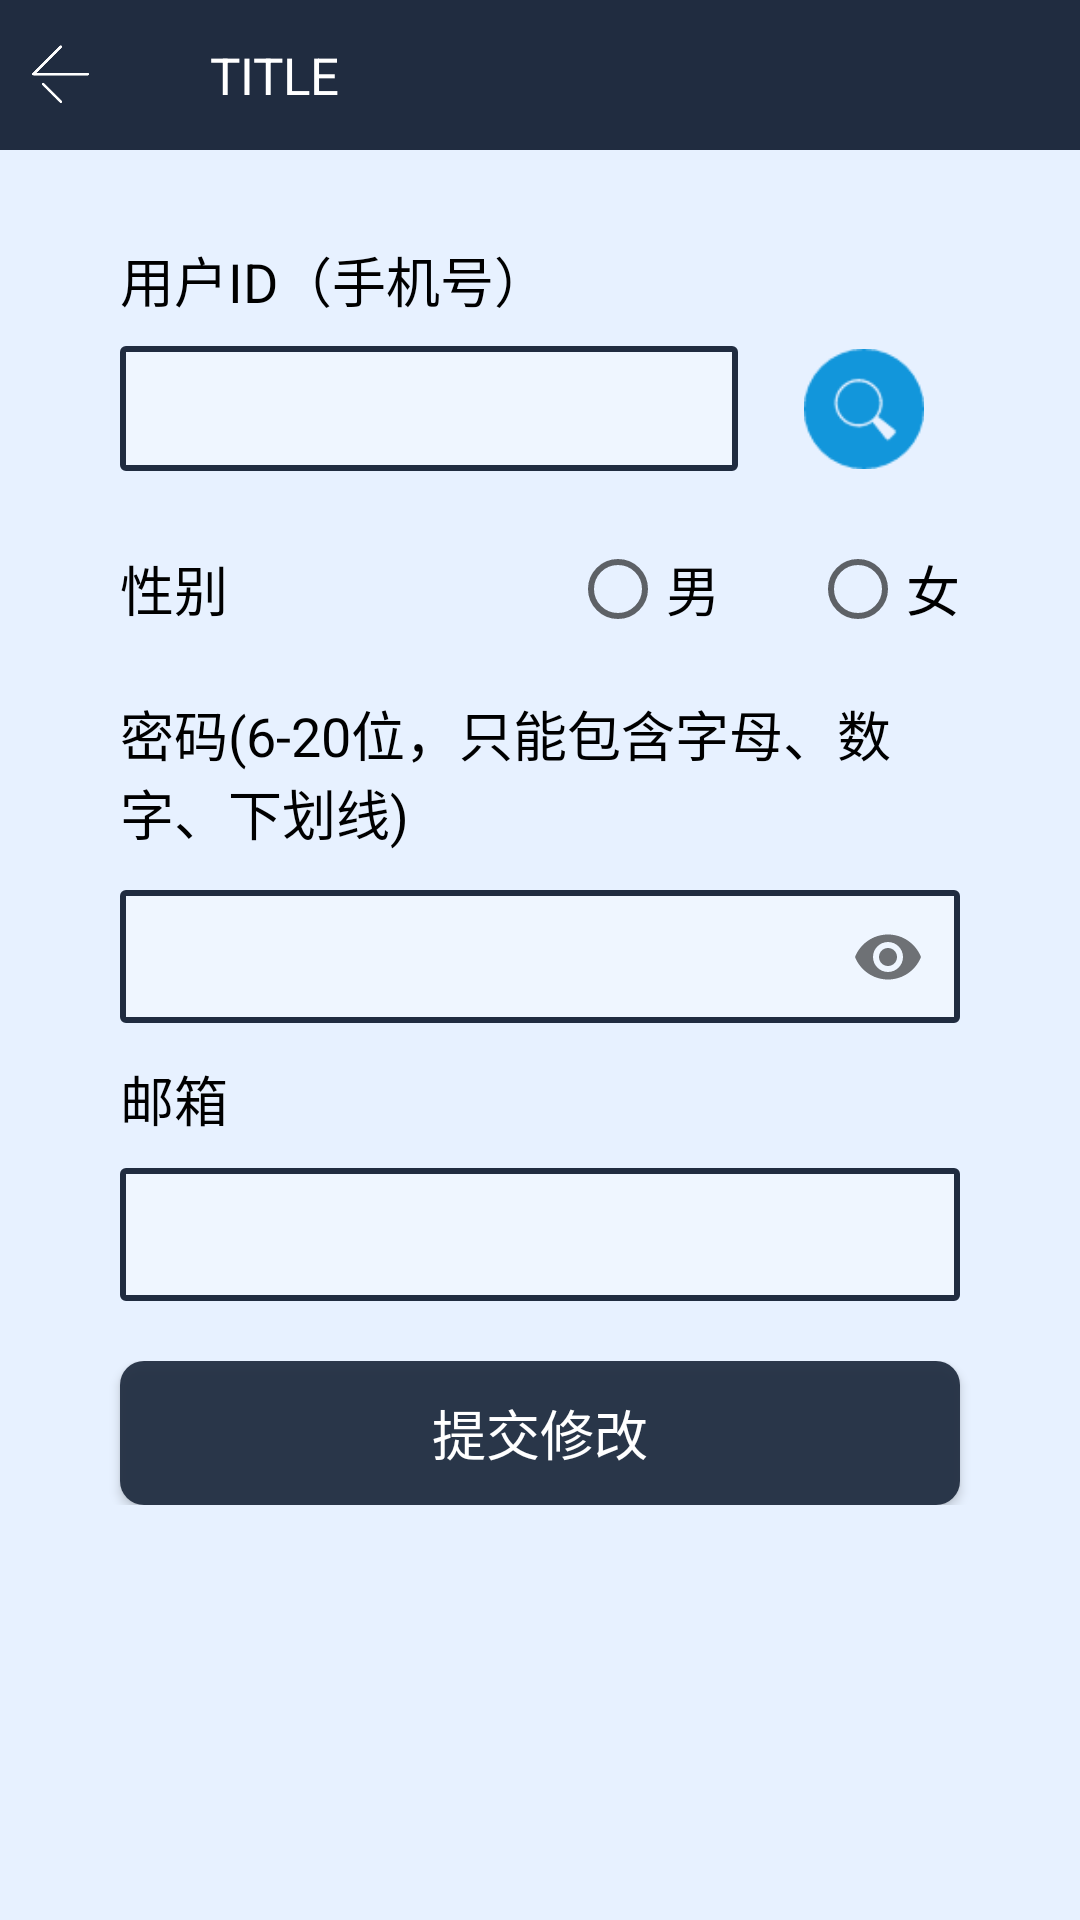

Screen size 1080x1920. Icon name, then its center in pixels as (x=x, y=y):
back: (x=60, y=74)
query: (x=864, y=409)
